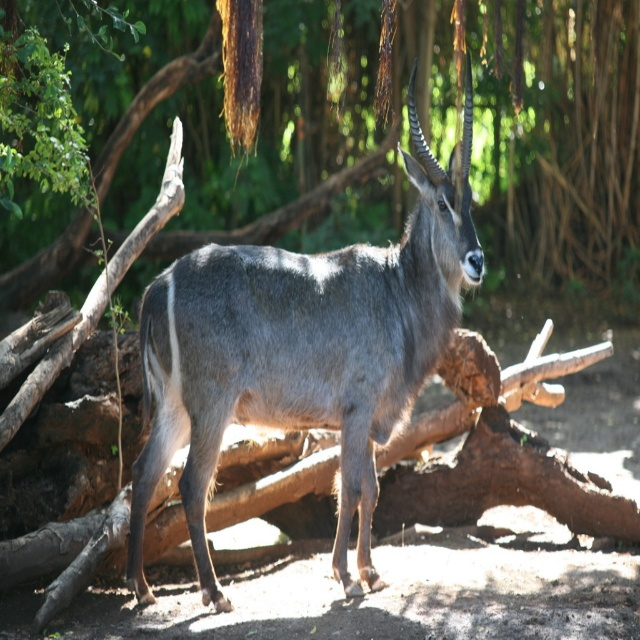Deer: (126, 50, 486, 614)
